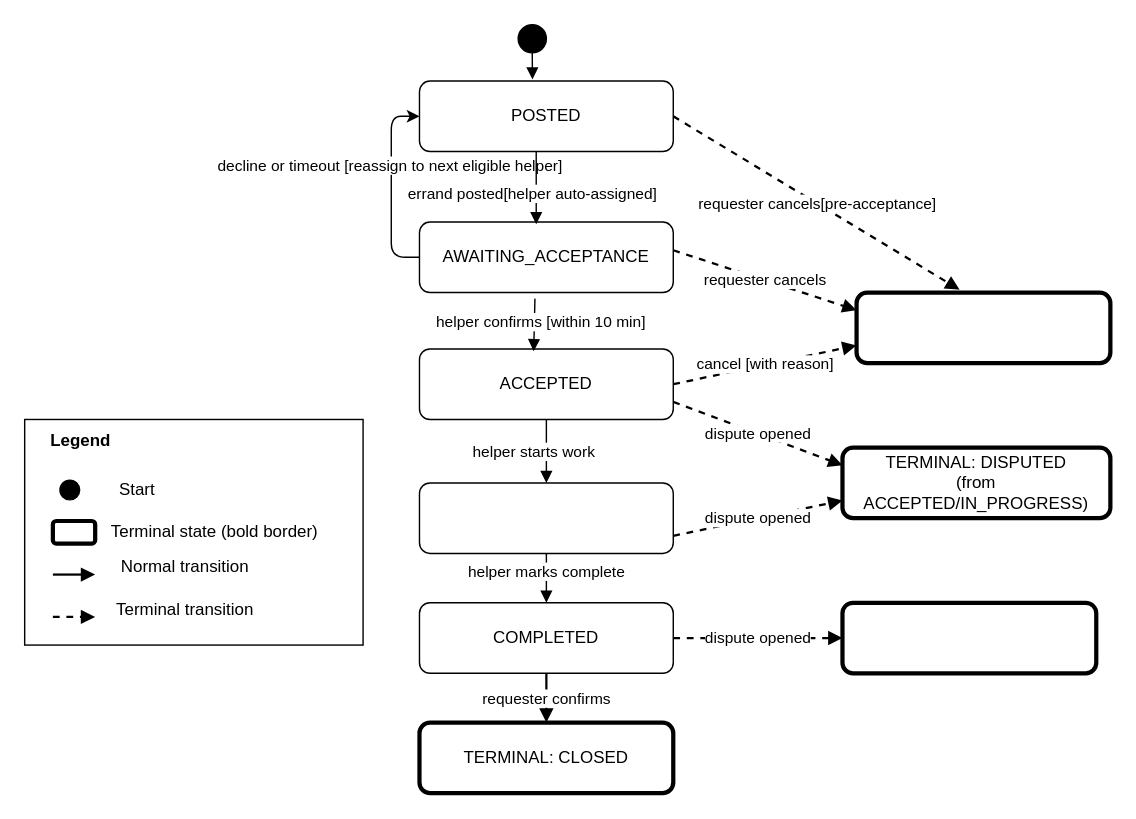
The diagram is 1136 pixels wide and 819 high, and some of its shapes have lost their labels. Each missing label, with the centre of its shape:
IN_PROGRESS: [545,517]
TERMINAL: CANCELLED: [983,327]
TERMINAL: DISPUTED (from COMPLETED): [969,637]
